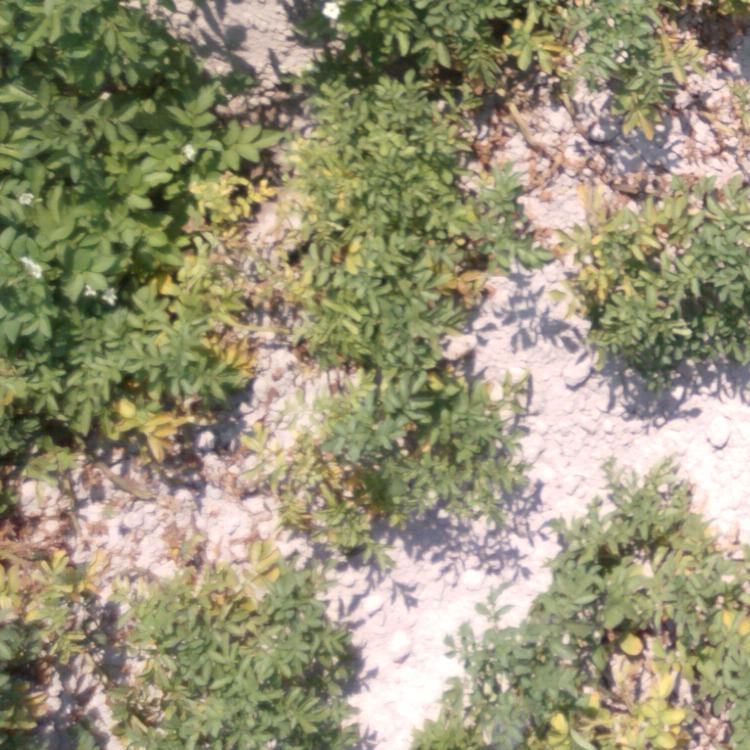healthy: (1, 369, 182, 623), (173, 262, 314, 585), (1, 123, 158, 367), (66, 1, 366, 121), (1, 627, 292, 750), (167, 116, 346, 263), (585, 1, 743, 120), (641, 128, 750, 249), (1, 74, 66, 120)
stressed: (312, 546, 565, 750), (568, 387, 750, 593), (364, 131, 640, 246), (382, 1, 583, 132), (321, 349, 443, 552), (356, 252, 547, 346), (565, 673, 715, 750), (445, 347, 558, 416)
